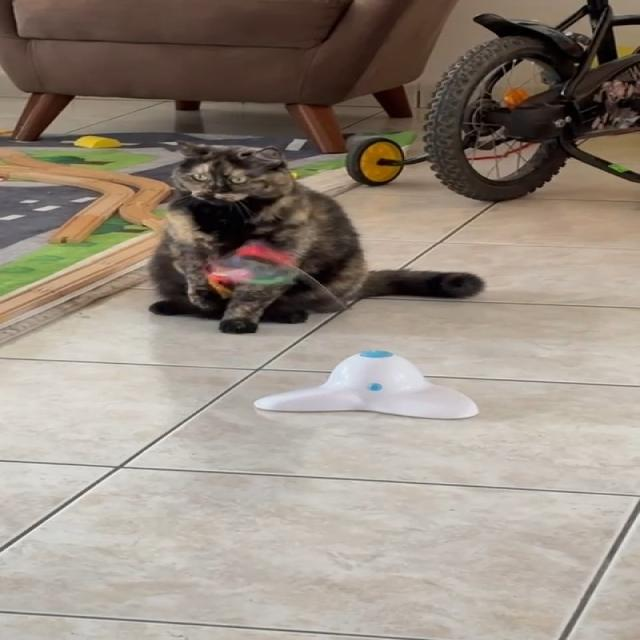authorized: (147, 140, 485, 334)
